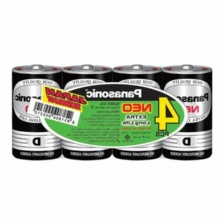battery: (59, 61, 115, 160), (159, 63, 215, 161), (108, 61, 163, 160), (10, 60, 63, 160)
